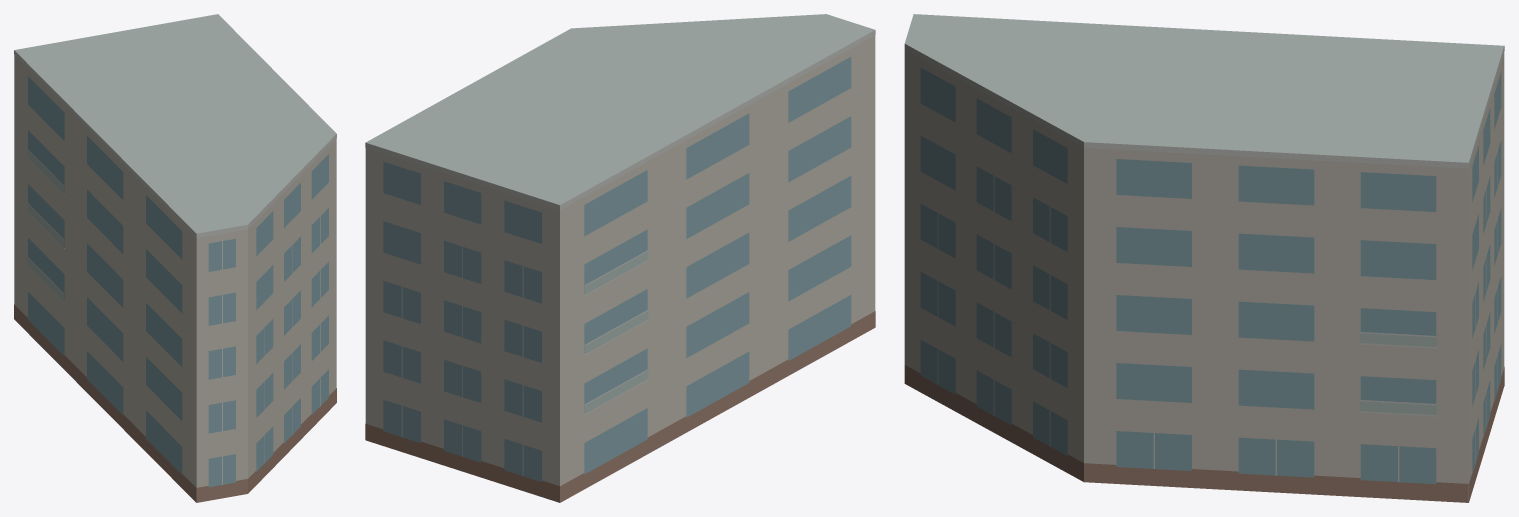
File: survey-upis-33033271.glb
3 views of the same model, side by side, from view 1: azimuth 30°, elevation 25°; view 2: azimuth 150°, elevation 25°; view 3: azimuth 270°, elevation 25° (orthographic). The views are drawn at different scales.
Visible parts, largest first — view 1: survey-upis-33033271.tmp; view 2: survey-upis-33033271.tmp; view 3: survey-upis-33033271.tmp.
Part boxes in pixels (<box>): survey-upis-33033271.tmp: <box>14,14,336,502</box>; survey-upis-33033271.tmp: <box>365,14,875,502</box>; survey-upis-33033271.tmp: <box>904,14,1504,502</box>.
Bounding box in the file's own units: 13.43 × 14.3 × 22.87.
